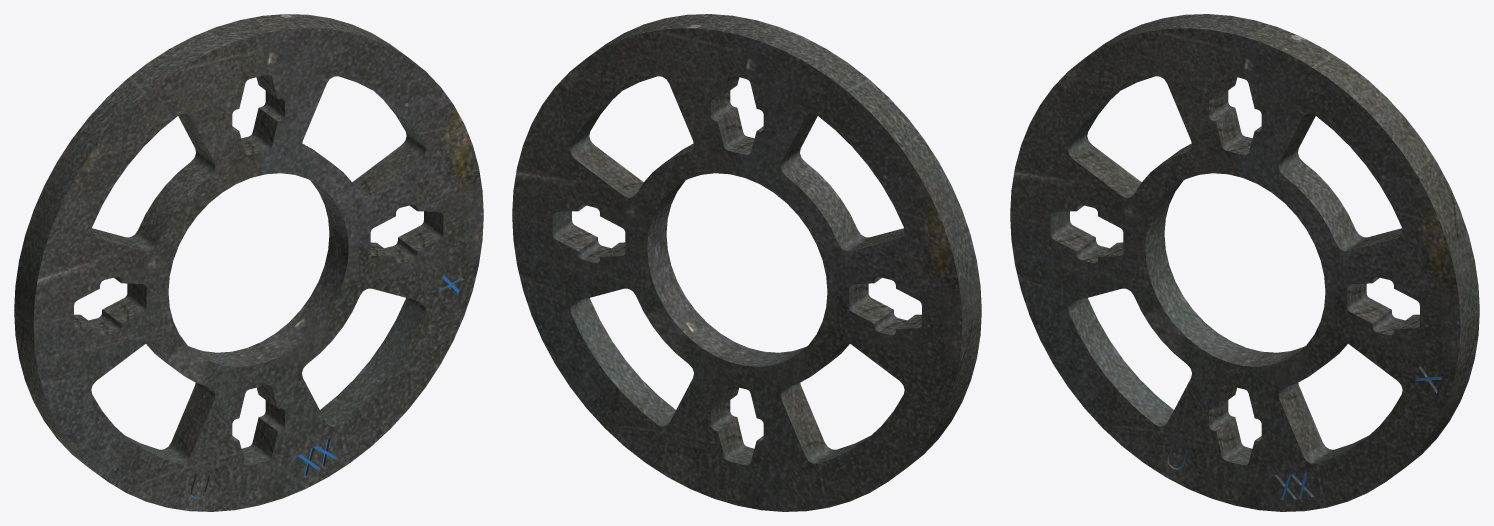
File: Rosette.glb
3 views of the same model, side by side, from view 1: azimuth 30°, elevation 25°; view 2: azimuth 150°, elevation 25°; view 3: azimuth 330°, elevation 25° (orthographic).
Parts seen in each view (by area): view 1: Solid1; view 2: Solid1; view 3: Solid1.
Boxes of the visible parts, left/top/right/bottom form: Solid1: left=14, top=14, right=483, bottom=511; Solid1: left=512, top=14, right=981, bottom=511; Solid1: left=1010, top=14, right=1479, bottom=511.
Bounding box in the file's own units: 0.1229 × 0.1229 × 0.00914.
Materials: 2 (1 with a texture image).
